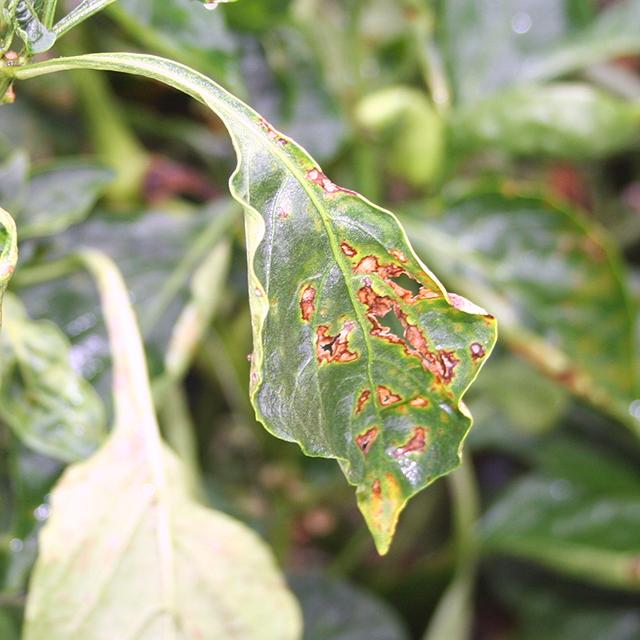Tomato leaf bacterial spot: (177, 87, 520, 560), (0, 0, 48, 309)
